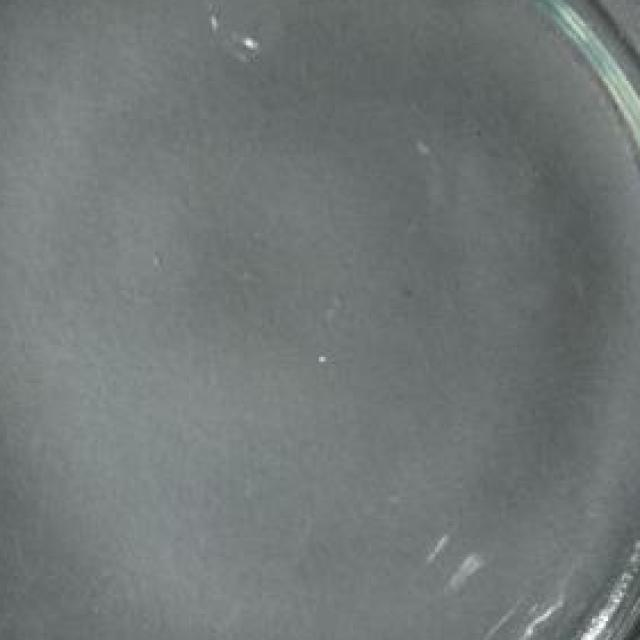Microplastic: (194, 0, 289, 67)
